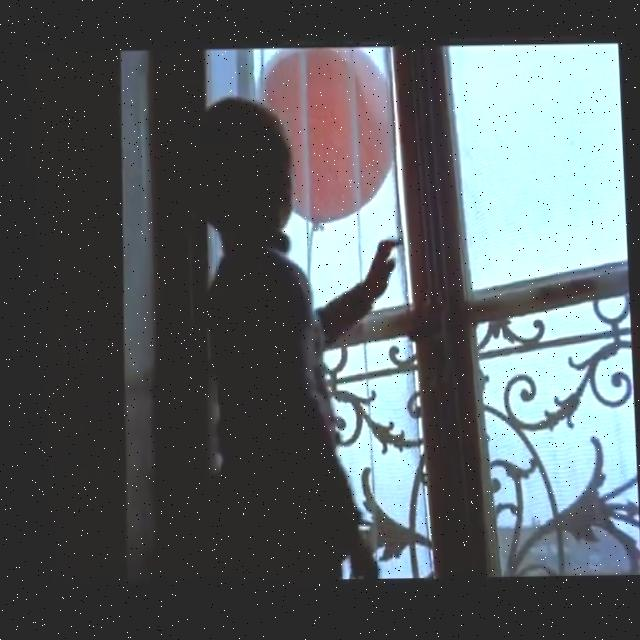balloon: (257, 46, 396, 230)
